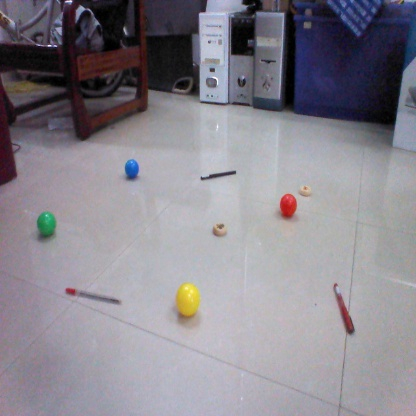ball: (175, 284, 203, 318), (37, 208, 58, 239), (122, 156, 141, 181), (277, 195, 296, 214)
chess: (213, 221, 230, 234), (298, 183, 314, 196)
pen: (332, 283, 356, 331), (62, 291, 122, 303), (198, 169, 238, 181)
